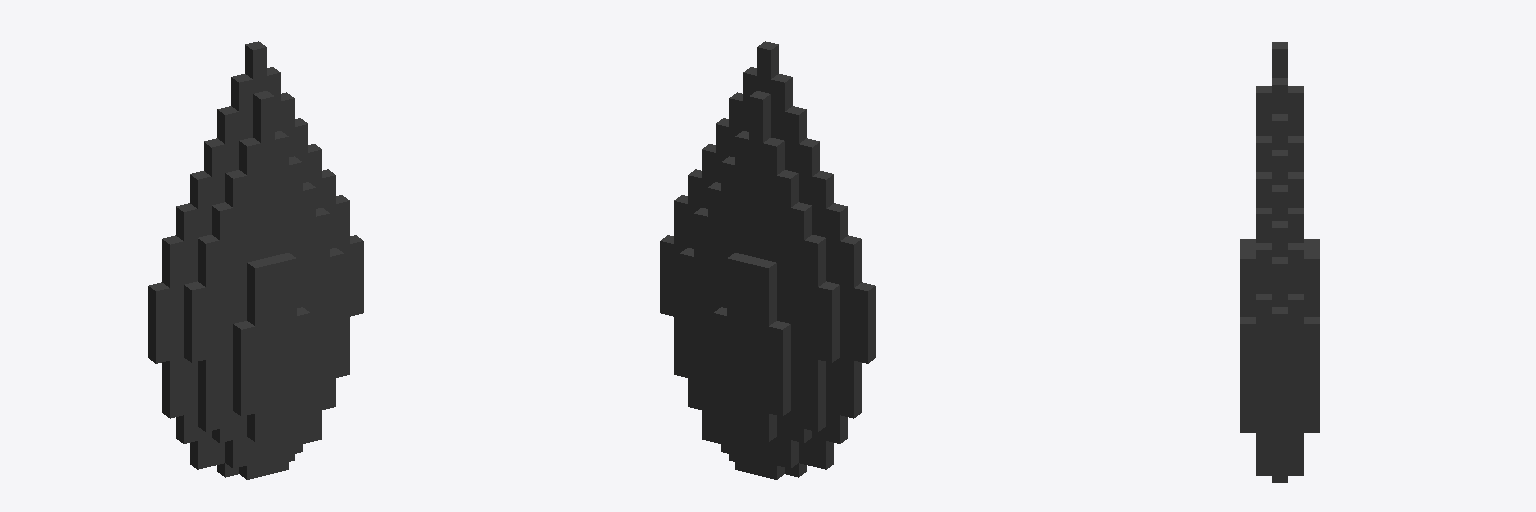
3 views of the same model, side by side, from view 1: azimuth 30°, elevation 25°; view 2: azimuth 150°, elevation 25°; view 3: azimuth 270°, elevation 25° (orthographic).
Parts seen in each view (by area): view 1: object 1; view 2: object 1; view 3: object 1.
Part boxes in pixels (x1,y1,x2,y2): object 1: (148, 41, 363, 479); object 1: (660, 41, 875, 479); object 1: (1240, 42, 1319, 482).
Bounding box in the file's own units: 1.5 × 2.9 × 0.5.
1 materials, 1 textured.